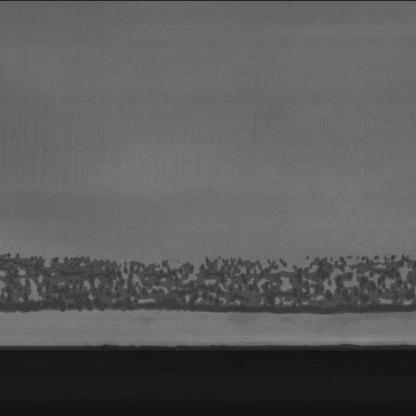oil_spot: (0, 236, 410, 321)
